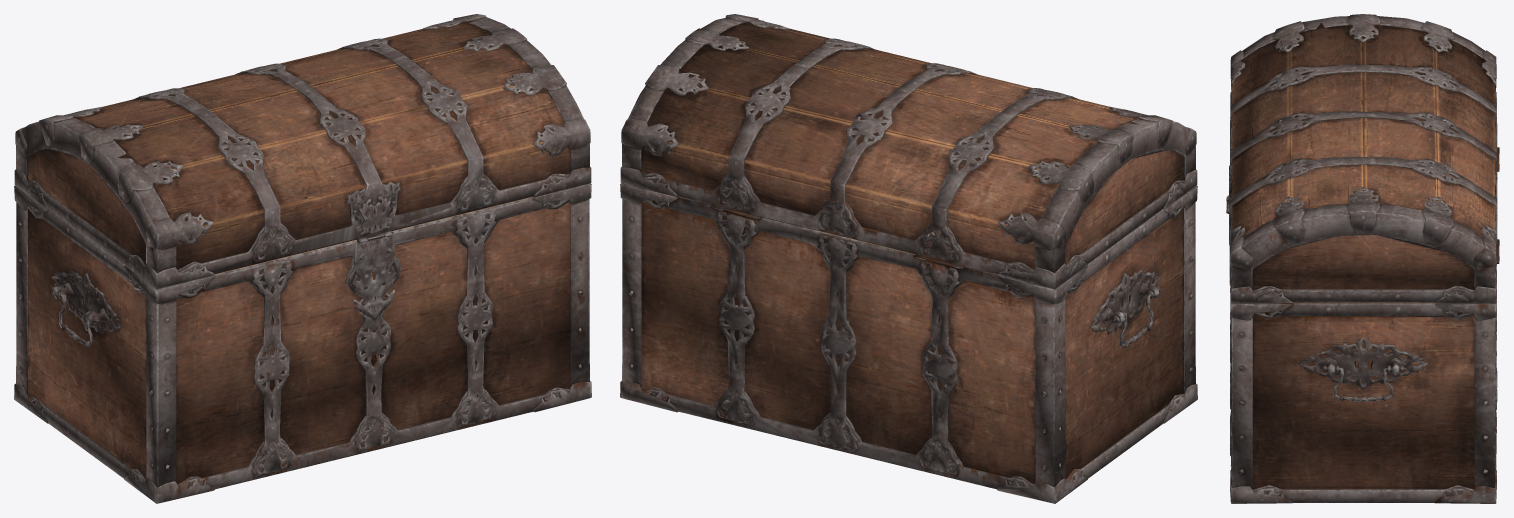
The model's file is chest.glb.
The picture shows the model from 3 angles, left to right: view 1: azimuth 30°, elevation 25°; view 2: azimuth 150°, elevation 25°; view 3: azimuth 270°, elevation 25°; orthographic projection. The views are drawn at different scales.
Visible parts, largest first — view 1: chest; view 2: chest; view 3: chest.
Boxes of the visible parts, x1,y1,x2,y2 form: chest: (14,14,591,503); chest: (620,14,1197,503); chest: (1226,14,1499,503).
Bounding box in the file's own units: 0.9598 × 0.6187 × 0.5232.
Materials: 1 (1 with a texture image).
